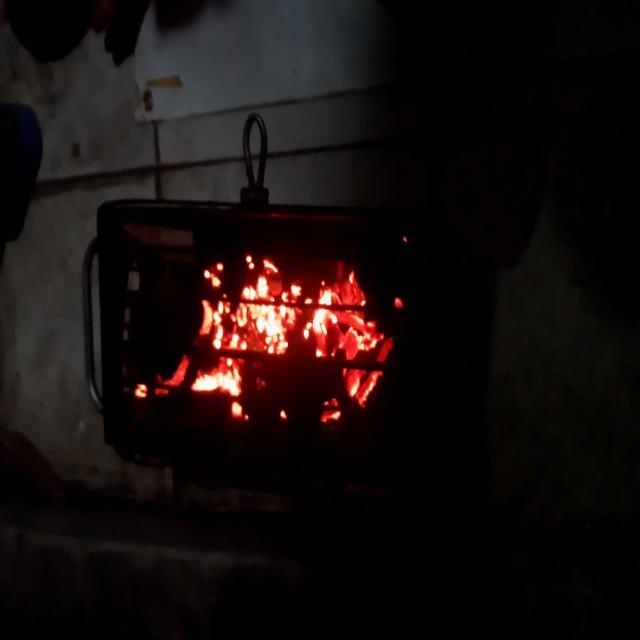Fire: (110, 236, 412, 443)
